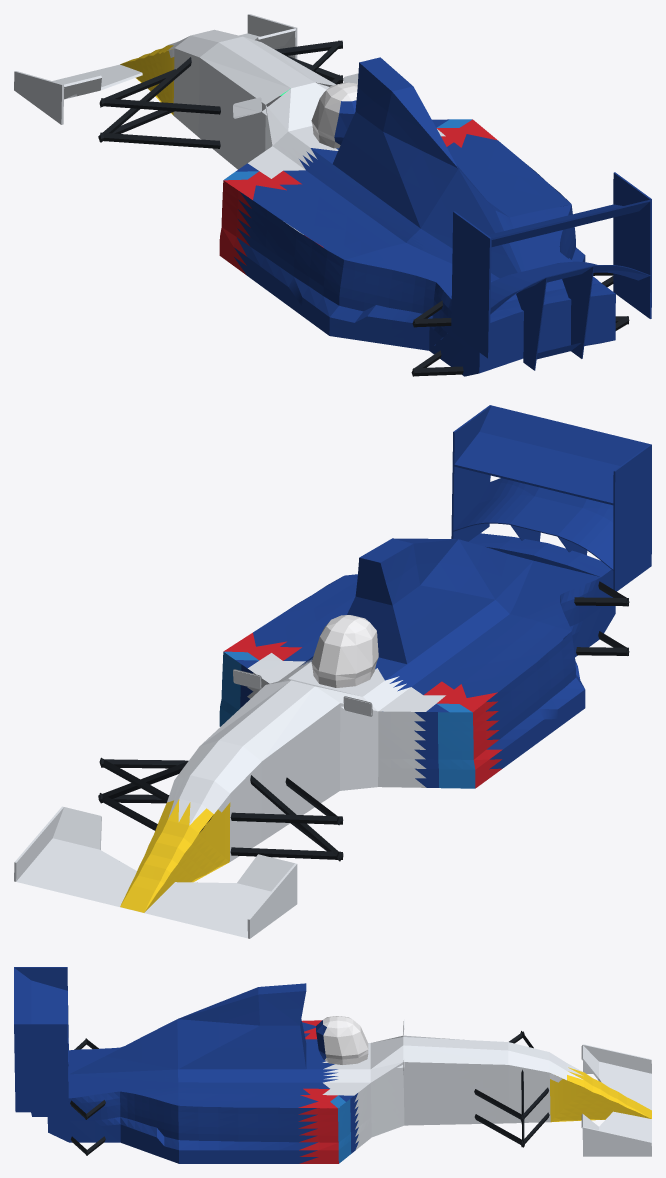
Rendered from F1_94_chassis_geometry.glb.
The picture shows the model from 3 angles, top to bottom: view 1: azimuth 30°, elevation 25°; view 2: azimuth 150°, elevation 25°; view 3: azimuth 270°, elevation 25°; orthographic projection. The views are drawn at different scales.
Parts seen in each view (by area): view 1: GEO_CHASSIS, GEO_AERO_REAR_WING, GEO_AERO_FRONT_WING, GEO_SUSPENSION_FL, GEO_DRIVER_HELMET, GEO_NOSE, GEO_SUSPENSION_RL, GEO_SUSPENSION_FR; view 2: GEO_CHASSIS, GEO_AERO_REAR_WING, GEO_AERO_FRONT_WING, GEO_NOSE, GEO_DRIVER_HELMET, GEO_SUSPENSION_FL, GEO_SUSPENSION_FR, GEO_SUSPENSION_RL; view 3: GEO_CHASSIS, GEO_AERO_REAR_WING, GEO_AERO_FRONT_WING, GEO_NOSE, GEO_DRIVER_HELMET, GEO_SUSPENSION_FR, GEO_SUSPENSION_RR.
Part boxes in pixels (x1=…): GEO_CHASSIS: x1=173, y1=29, x2=615, y2=376; GEO_AERO_REAR_WING: x1=451, y1=172, x2=651, y2=370; GEO_AERO_FRONT_WING: x1=14, y1=14, x2=297, y2=124; GEO_SUSPENSION_FL: x1=98, y1=57, x2=220, y2=148; GEO_DRIVER_HELMET: x1=311, y1=82, x2=357, y2=148; GEO_NOSE: x1=120, y1=36, x2=189, y2=115; GEO_SUSPENSION_RL: x1=411, y1=300, x2=463, y2=376; GEO_SUSPENSION_FR: x1=275, y1=40, x2=343, y2=84; GEO_CHASSIS: x1=175, y1=533, x2=615, y2=861; GEO_AERO_REAR_WING: x1=451, y1=405, x2=651, y2=591; GEO_AERO_FRONT_WING: x1=14, y1=806, x2=297, y2=938; GEO_NOSE: x1=120, y1=775, x2=230, y2=912; GEO_DRIVER_HELMET: x1=311, y1=615, x2=378, y2=687; GEO_SUSPENSION_FL: x1=230, y1=775, x2=343, y2=861; GEO_SUSPENSION_FR: x1=98, y1=757, x2=188, y2=830; GEO_SUSPENSION_RL: x1=574, y1=581, x2=629, y2=655; GEO_CHASSIS: x1=47, y1=983, x2=550, y2=1163; GEO_AERO_REAR_WING: x1=14, y1=967, x2=68, y2=1116; GEO_AERO_FRONT_WING: x1=581, y1=1044, x2=651, y2=1156; GEO_NOSE: x1=549, y1=1052, x2=651, y2=1122; GEO_DRIVER_HELMET: x1=316, y1=1016, x2=368, y2=1064; GEO_SUSPENSION_FR: x1=474, y1=1069, x2=549, y2=1147; GEO_SUSPENSION_RR: x1=70, y1=1100, x2=105, y2=1155.
Bounding box in the file's own units: 1.44 × 0.9711 × 4.27.
